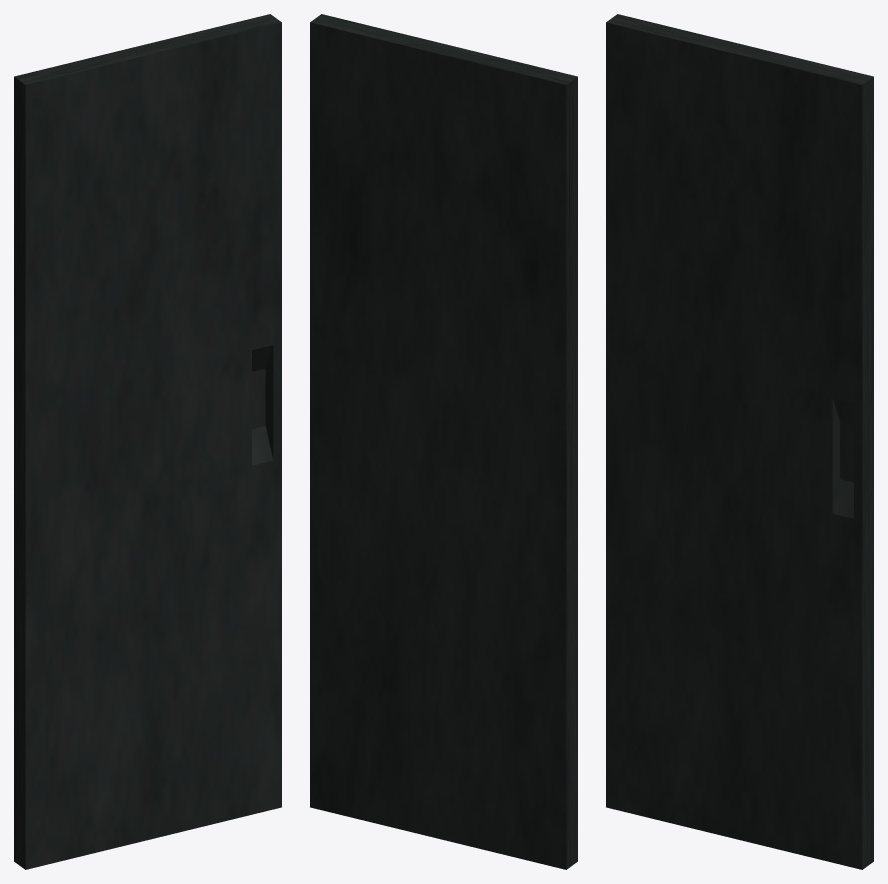
File: Half_closet_door.fbx
3 views of the same model, side by side, from view 1: azimuth 30°, elevation 25°; view 2: azimuth 150°, elevation 25°; view 3: azimuth 330°, elevation 25° (orthographic).
Parts seen in each view (by area): view 1: Cube.001; view 2: Cube.001; view 3: Cube.001.
Part boxes in pixels (x1,y1,x2,y2): Cube.001: (14,14,281,869); Cube.001: (310,14,577,869); Cube.001: (606,14,873,869).
Size of the model in its own units: 68.43 by 200 by 5.32.
Materials: 1 (1 with a texture image).
